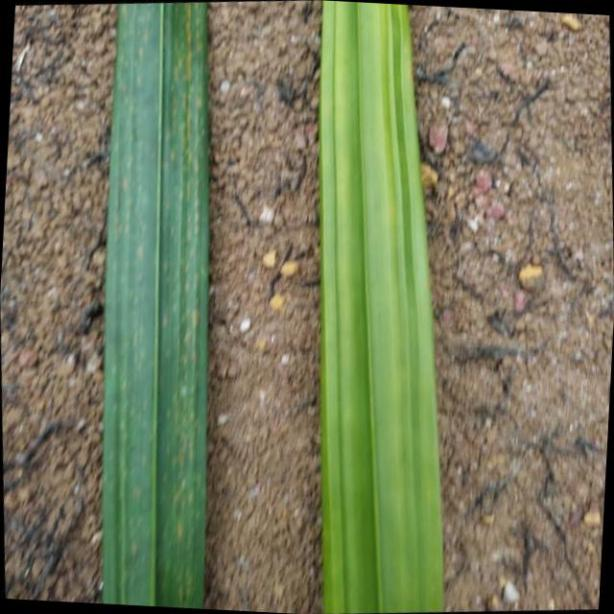nitrogen: (315, 1, 443, 614), (95, 0, 218, 614)
